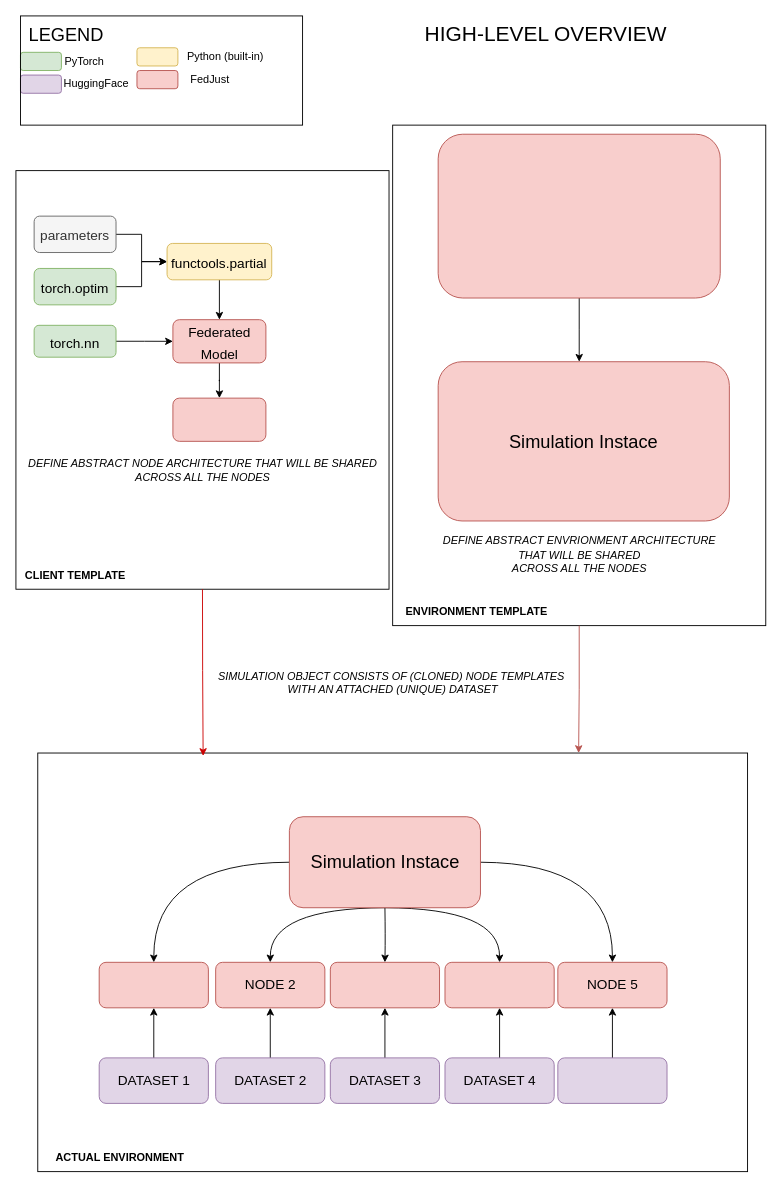
The diagram is 782 pixels wide and 1188 high, and some of its shapes have lost their labels. Each missing label, with the box of its shape:
Central Optimizer: (437, 133, 720, 298)
DATASET 5: (557, 1057, 667, 1103)
Federated Node: (172, 397, 266, 441)
NODE 1: (98, 961, 208, 1008)
NODE 3: (329, 961, 440, 1008)
NODE 4: (444, 961, 554, 1008)
